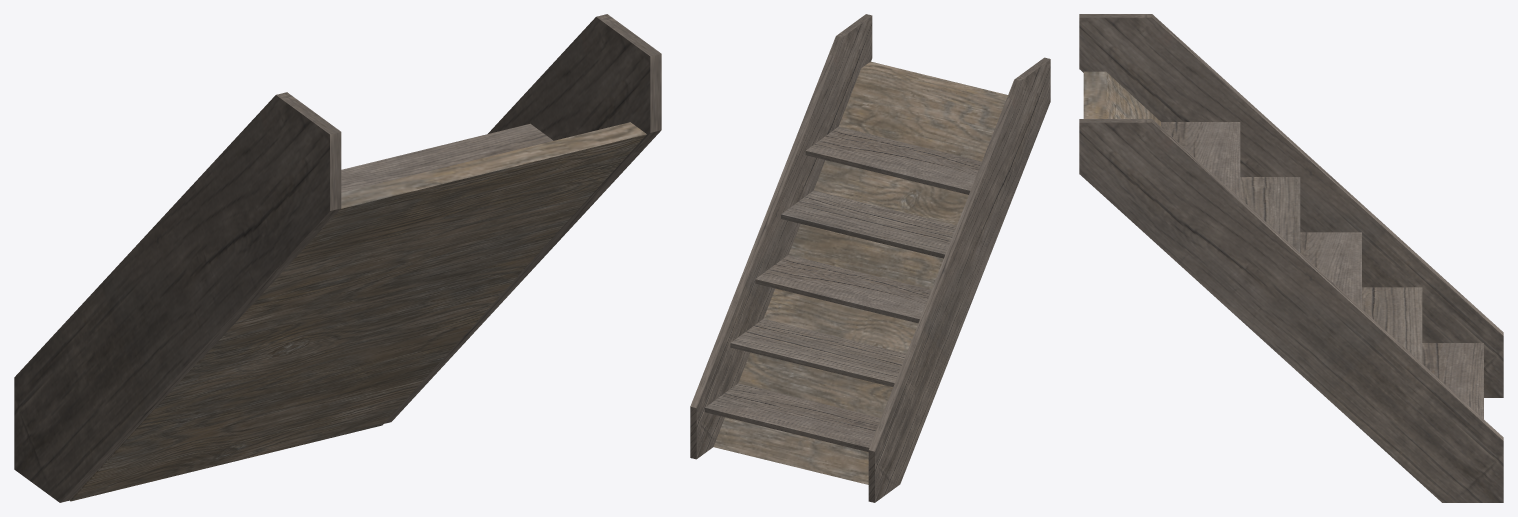
The model's file is woodstair02b.fbx.
3 renders of one model, left to right at view 1: azimuth 30°, elevation 25°; view 2: azimuth 150°, elevation 25°; view 3: azimuth 270°, elevation 25°, orthographic. The views are drawn at different scales.
Parts seen in each view (by area): view 1: woodstair02b; view 2: woodstair02b; view 3: woodstair02b.
Boxes of the visible parts, x1,y1,x2,y2 form: woodstair02b: (14,14,661,502); woodstair02b: (690,14,1050,502); woodstair02b: (1079,14,1503,502).
Bounding box in the file's own units: 110 × 179 × 181.
